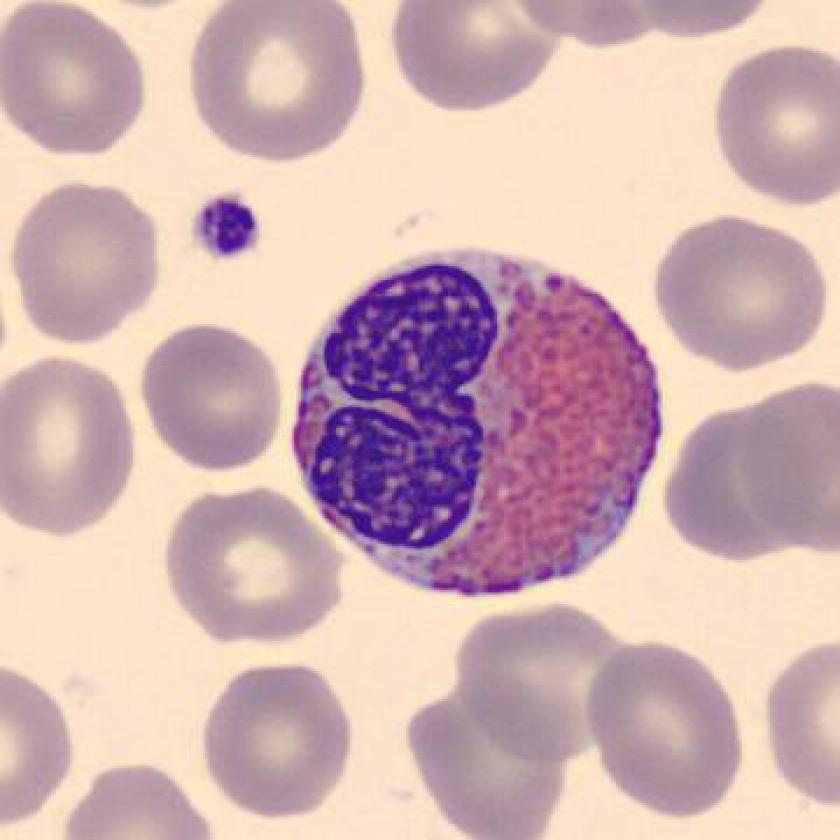eosinophil: (284, 239, 676, 612)
